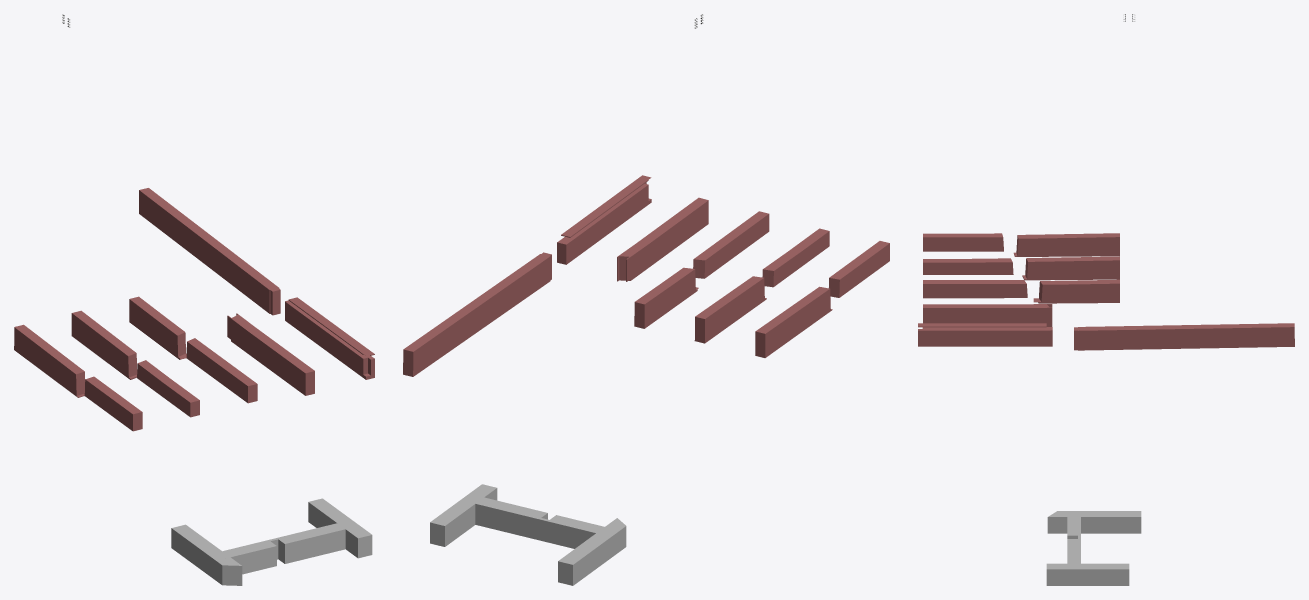
File: structural.glb
3 renders of one model, left to right at view 1: azimuth 30°, elevation 25°; view 2: azimuth 150°, elevation 25°; view 3: azimuth 270°, elevation 25°, orthographic. The views are drawn at different scales.
Visible parts, largest first — view 1: layer:structural; view 2: layer:structural; view 3: layer:structural.
Boxes of the visible parts, box(x1,y1,x2,y2) form: layer:structural: box(14, 14, 374, 585); layer:structural: box(403, 14, 889, 585); layer:structural: box(918, 14, 1294, 585).
Size of the model in its own units: 9.98 by 17.15 by 12.51.
